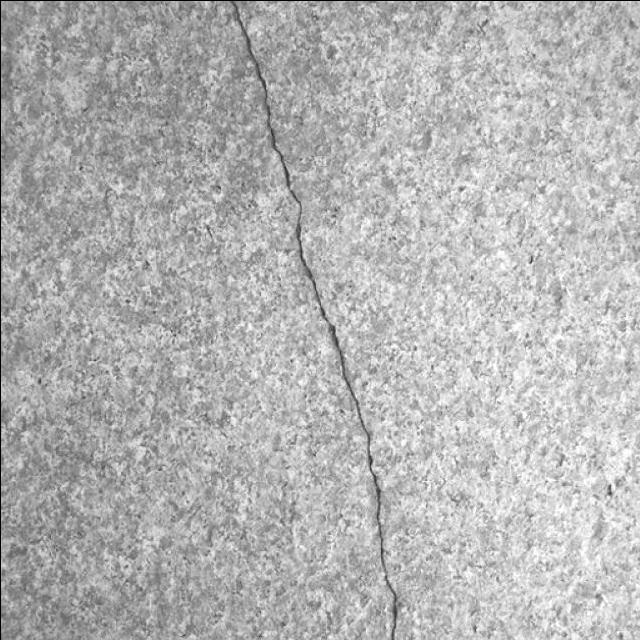SurfaceCrack: (190, 0, 434, 640)
